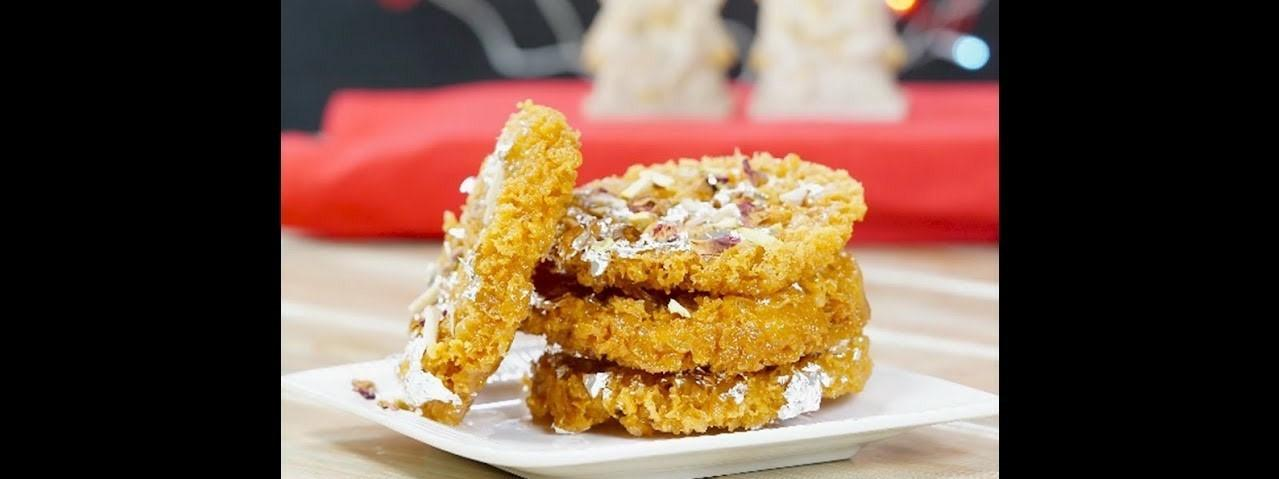Ghevar: (406, 95, 581, 426), (547, 149, 867, 289), (531, 268, 869, 367), (519, 355, 874, 432)
